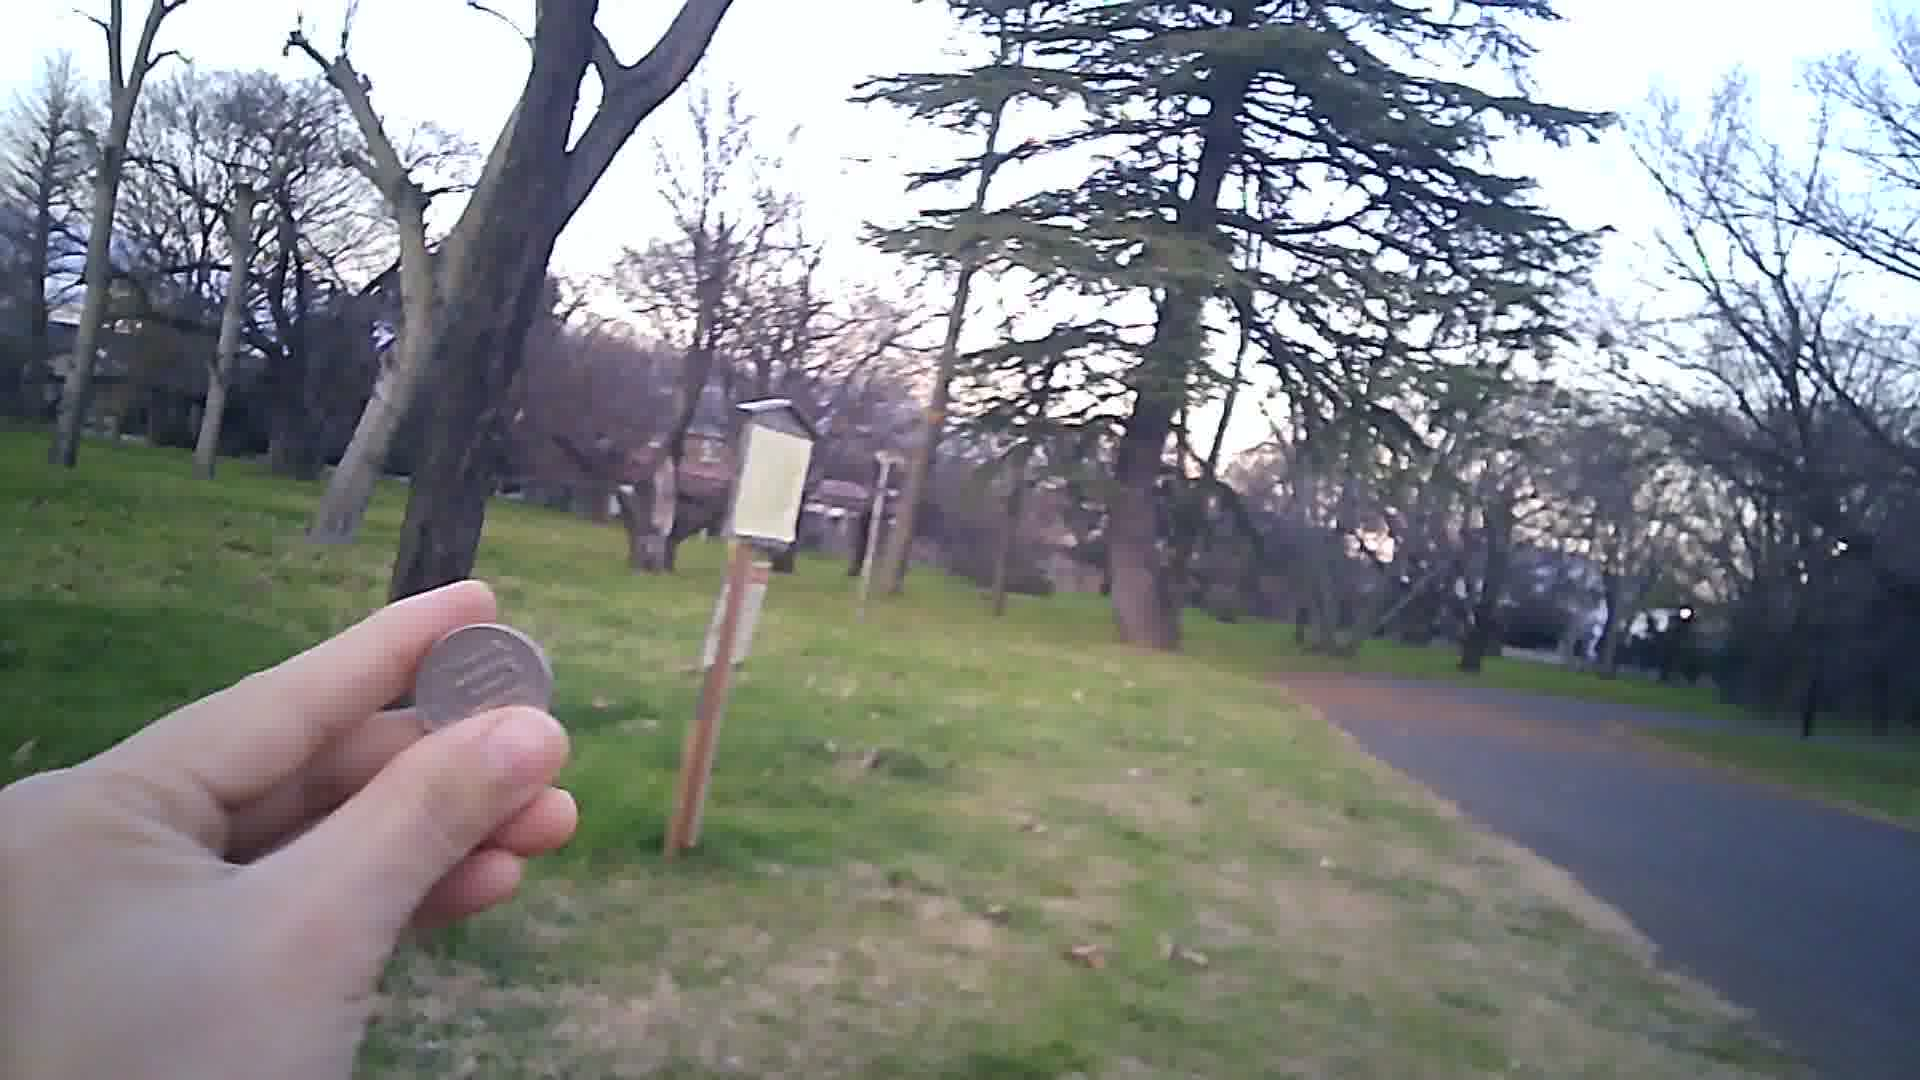100 Yen: (405, 617, 554, 740)
